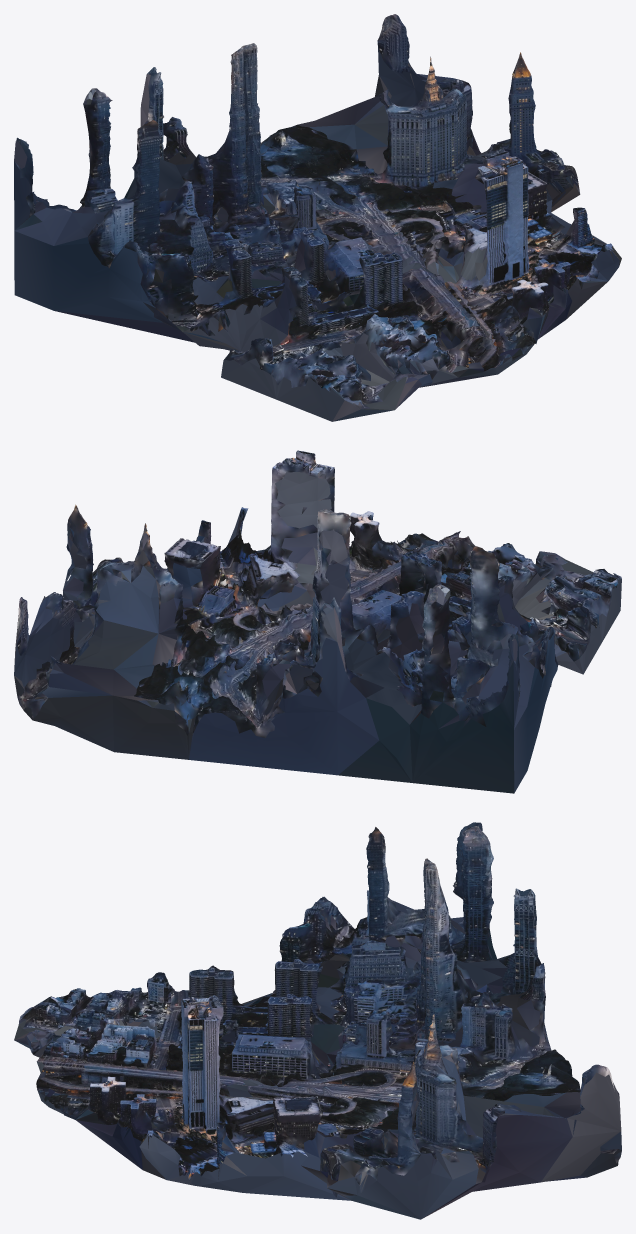
Rendered from sf-toronto-midtown-dc5080.glb.
3 views of the same model, one above another, from view 1: azimuth 30°, elevation 25°; view 2: azimuth 150°, elevation 25°; view 3: azimuth 270°, elevation 25° (orthographic). The views are drawn at different scales.
Parts seen in each view (by area): view 1: midtown_midtown_u1_v1_0, midtown_midtown_u2_v1_0; view 2: midtown_midtown_u1_v1_0, midtown_midtown_u2_v1_0; view 3: midtown_midtown_u1_v1_0, midtown_midtown_u2_v1_0.
Boxes of the visible parts, x1=… form: midtown_midtown_u1_v1_0: x1=14, y1=16, x2=621, y2=421; midtown_midtown_u2_v1_0: x1=14, y1=14, x2=610, y2=407; midtown_midtown_u1_v1_0: x1=14, y1=450, x2=621, y2=793; midtown_midtown_u2_v1_0: x1=16, y1=454, x2=621, y2=730; midtown_midtown_u1_v1_0: x1=14, y1=822, x2=621, y2=1219; midtown_midtown_u2_v1_0: x1=19, y1=822, x2=621, y2=1176.
Size of the model in its own units: 21.75 by 9.06 by 22.63.
Materials: 2 (2 with a texture image).
